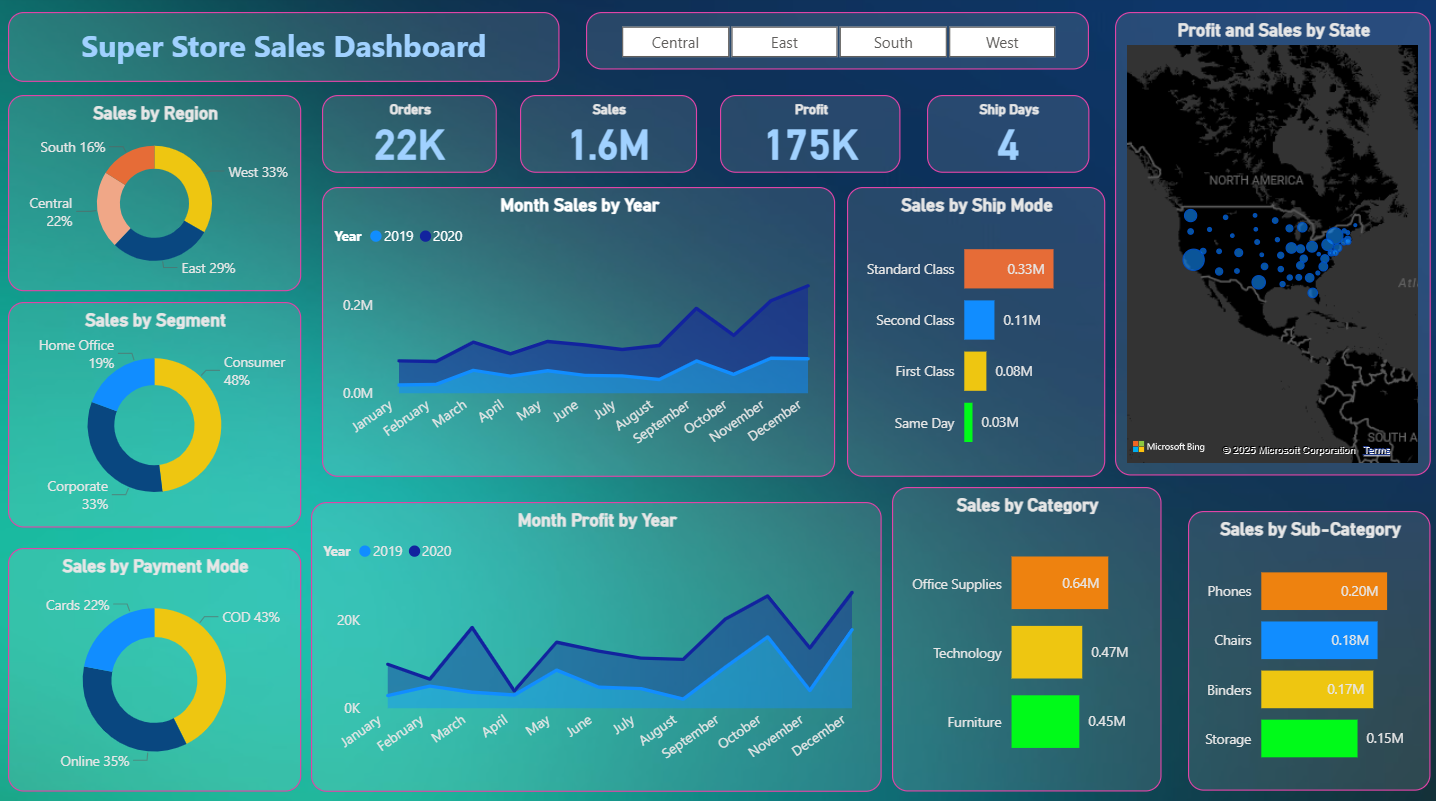

This screenshot's page, from the dashboard's own definition file:
{"tool":"powerbi","page":{"name":"Page 1","canvas":[1280,720],"ordinal":0},"visuals":[{"type":"clusteredBarChart","title":"Sales by Category","fields":{"Category":["SuperStore_Sales_Dataset.Category"],"Y":["Sum(SuperStore_Sales_Dataset.Sales)"]},"box":[792.7,435.4,238.5,269.6],"z":0},{"type":"clusteredBarChart","title":"Sales by Sub-Category","fields":{"Category":["SuperStore_Sales_Dataset.Sub-Category"],"Y":["Sum(SuperStore_Sales_Dataset.Sales)"]},"box":[1055.2,456.7,215.5,248.3],"z":1000},{"type":"clusteredBarChart","title":"Sales by Ship Mode","fields":{"Category":["SuperStore_Sales_Dataset.Ship Mode"],"Y":["Sum(SuperStore_Sales_Dataset.Sales)"]},"box":[752.8,169.2,228.6,256.8],"z":2000},{"type":"stackedAreaChart","title":" Month Sales by Year","fields":{"Y":["Sum(SuperStore_Sales_Dataset.Sales)"],"Category":["SuperStore_Sales_Dataset.Order Date.Variation.Date Hierarchy.Month","SuperStore_Sales_Dataset.Order Date.Variation.Date Hierarchy.Day"],"Series":["SuperStore_Sales_Dataset.Order Date.Variation.Date Hierarchy.Year"]},"box":[286.9,169.2,455.2,256.8],"z":3000},{"type":"stackedAreaChart","title":" Month Profit by Year","fields":{"Category":["SuperStore_Sales_Dataset.Order Date.Variation.Date Hierarchy.Month","SuperStore_Sales_Dataset.Order Date.Variation.Date Hierarchy.Day"],"Series":["SuperStore_Sales_Dataset.Order Date.Variation.Date Hierarchy.Year"],"Y":["Sum(SuperStore_Sales_Dataset.Profit)"]},"box":[277.2,448.4,505.8,256.8],"z":4000},{"type":"map","title":"Profit and Sales by State","fields":{"Category":["SuperStore_Sales_Dataset.State"],"Size":["Sum(SuperStore_Sales_Dataset.Sales)"]},"box":[990.2,14.6,280.1,411.4],"z":5000},{"type":"donutChart","title":"Sales by Segment","fields":{"Category":["SuperStore_Sales_Dataset.Segment"],"Y":["Sum(SuperStore_Sales_Dataset.Sales)"]},"box":[8.8,271.4,259.7,200.4],"z":6000},{"type":"donutChart","title":"Sales by Payment Mode","fields":{"Category":["SuperStore_Sales_Dataset.Payment Mode"],"Y":["Sum(SuperStore_Sales_Dataset.Sales)"]},"box":[8.8,489.2,259.7,215.9],"z":7000},{"type":"slicer","fields":{"Values":["SuperStore_Sales_Dataset.Region"]},"box":[521.3,14.6,446.4,50.6],"z":8000},{"type":"textbox","box":[8.8,14.6,489.2,62.2],"z":9000},{"type":"card","title":"Sales","fields":{"Values":["Sum(SuperStore_Sales_Dataset.Sales)"]},"box":[463,87.5,156.6,69.1],"z":10000},{"type":"card","title":"Orders","fields":{"Values":["Sum(SuperStore_Sales_Dataset.Quantity)"]},"box":[286.9,87.5,154.7,69.1],"z":11000},{"type":"card","title":"Profit","fields":{"Values":["Sum(SuperStore_Sales_Dataset.Profit)"]},"box":[640,87.5,160.5,69.1],"z":12000},{"type":"card","title":"Ship Days","fields":{"Values":["Avg(SuperStore_Sales_Dataset.AvgDelivery)"]},"box":[823.8,87.5,144,69.1],"z":13000},{"type":"donutChart","title":"Sales by Region","fields":{"Category":["SuperStore_Sales_Dataset.Region"],"Y":["Sum(SuperStore_Sales_Dataset.Sales)"]},"box":[8.8,87.5,259.7,174.1],"z":14000}]}

Visuals, with their boxes in screenshot pixels (x1, y1, x2, y2), scaled from the page's 1280x720 canvas onto the 1436x801 screenshot:
"Sales by Category" clusteredBarChart: crop(889, 484, 1157, 784)
"Sales by Sub-Category" clusteredBarChart: crop(1184, 508, 1426, 784)
"Sales by Ship Mode" clusteredBarChart: crop(845, 188, 1101, 474)
" Month Sales by Year" stackedAreaChart: crop(322, 188, 833, 474)
" Month Profit by Year" stackedAreaChart: crop(311, 499, 878, 785)
"Profit and Sales by State" map: crop(1111, 16, 1425, 474)
"Sales by Segment" donutChart: crop(10, 302, 301, 525)
"Sales by Payment Mode" donutChart: crop(10, 544, 301, 784)
slicer - SuperStore_Sales_Dataset.Region: crop(585, 16, 1086, 73)
textbox: crop(10, 16, 559, 85)
"Sales" card: crop(519, 97, 695, 174)
"Orders" card: crop(322, 97, 495, 174)
"Profit" card: crop(718, 97, 898, 174)
"Ship Days" card: crop(924, 97, 1086, 174)
"Sales by Region" donutChart: crop(10, 97, 301, 291)
